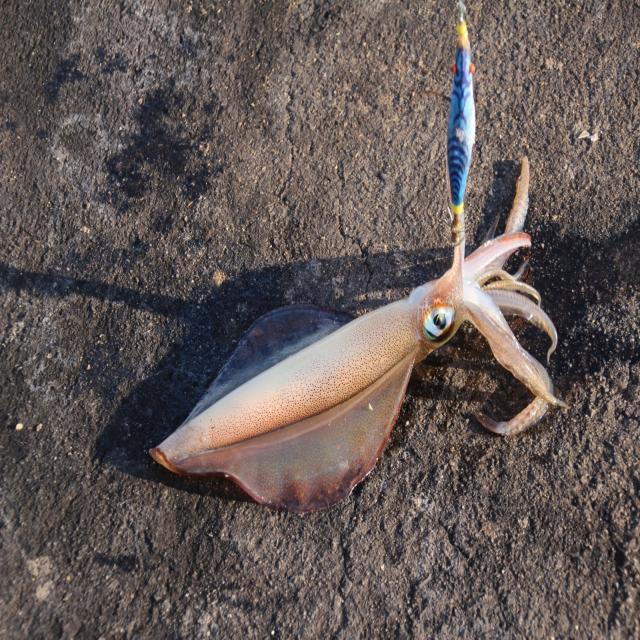SQUID: (133, 141, 574, 517)
